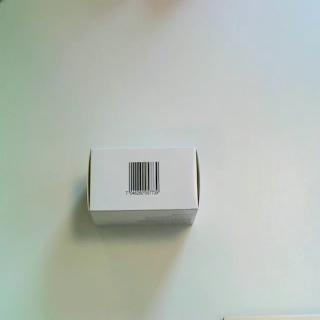oxycontin10mg: (86, 146, 202, 231)
